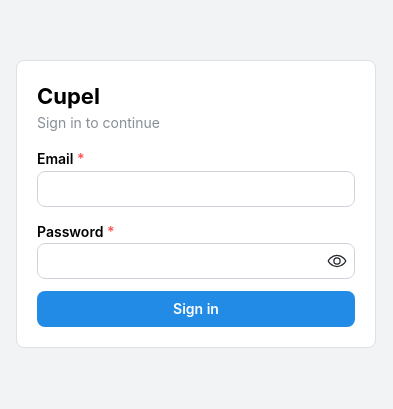
LoginPage › a network failure surfaces as an inline error state
Type "admin@demo" into the field labelled "Email *" at [196, 188], box [37,170,355,206]
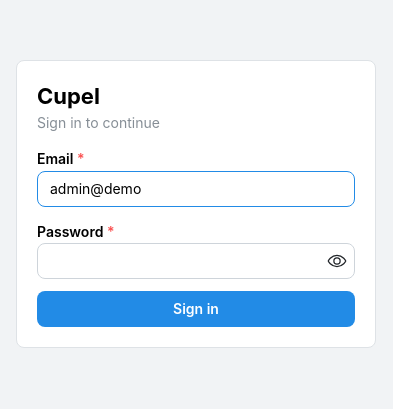
Type "demo" into the password field labelled "Password *" at [196, 261], box [38,244,354,278]
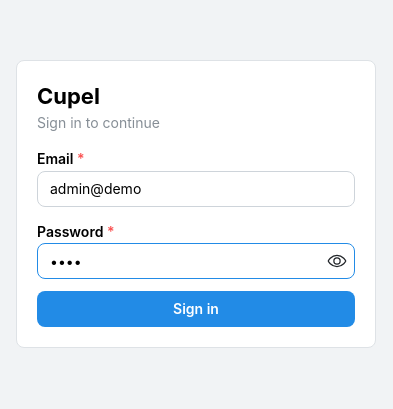
Click the button "Sign in" at [196, 309], box [37,291,355,327]
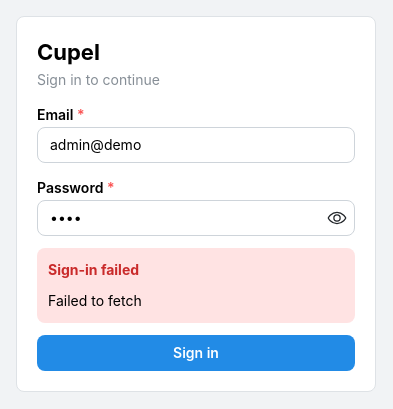
Expected: the text "Sign-in failed" is shown, [48,259,139,280]
